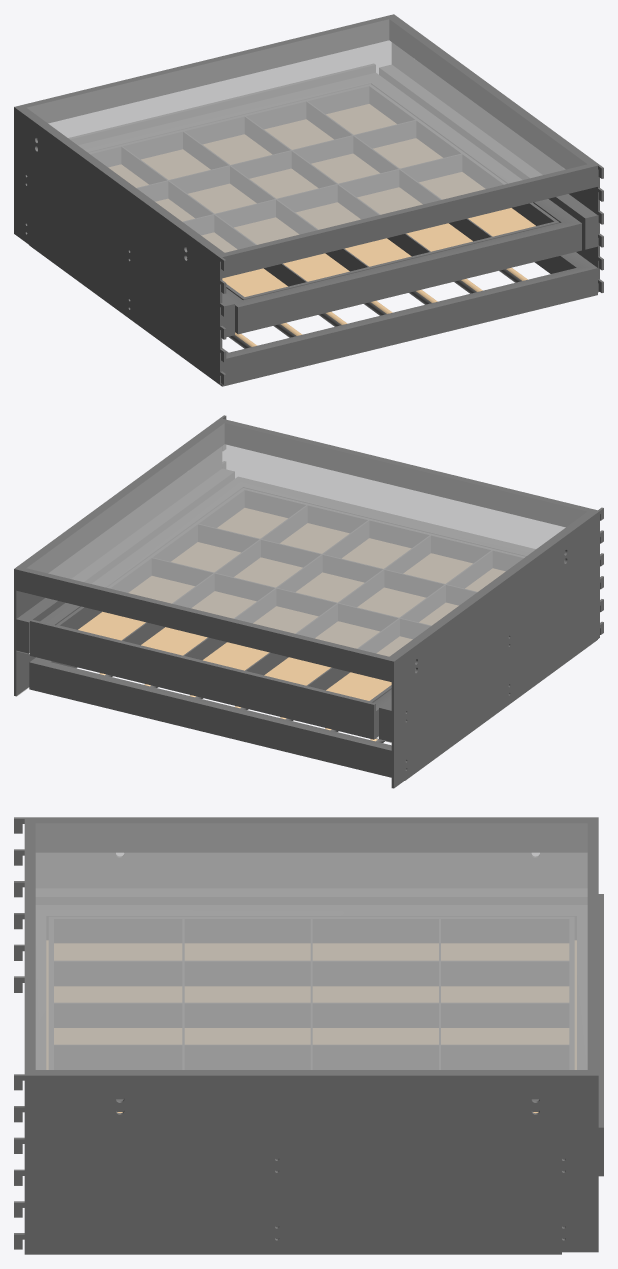
The picture shows the model from 3 angles, top to bottom: view 1: azimuth 30°, elevation 25°; view 2: azimuth 150°, elevation 25°; view 3: azimuth 270°, elevation 25°; orthographic projection. The views are drawn at different scales.
Visible parts, largest first — view 1: Geom3D (×5); view 2: Geom3D (×4); view 3: Geom3D (×4).
Part boxes in pixels (x1,y1,x2,y2): Geom3D (×5): [14, 14, 603, 386]; Geom3D (×4): [14, 415, 603, 788]; Geom3D (×4): [14, 817, 603, 1254].
Size of the model in its own units: 0.5643 by 0.1838 by 0.545.
